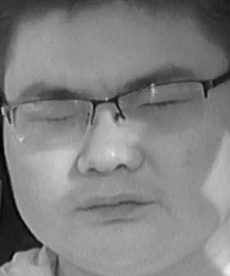blink: (138, 95, 185, 112), (40, 110, 77, 126)
glass: (114, 79, 207, 131), (14, 95, 94, 147)
mouth: (72, 192, 147, 221)
